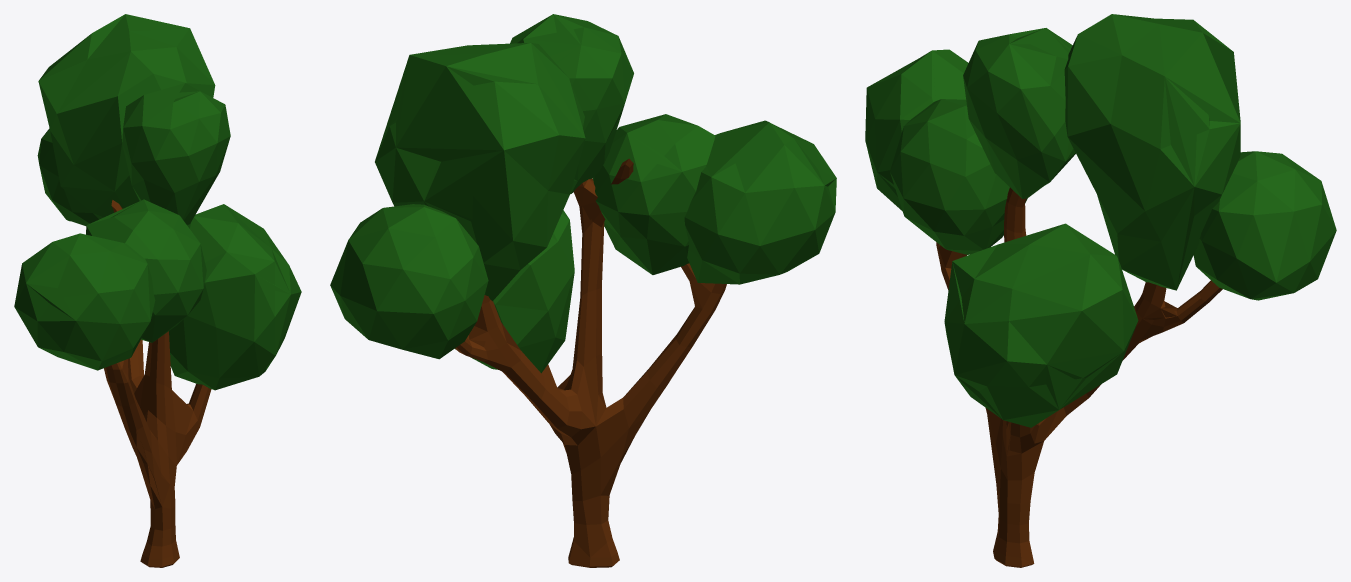
File: Tree6Model.fbx
The picture shows the model from 3 angles, left to right: view 1: azimuth 30°, elevation 25°; view 2: azimuth 150°, elevation 25°; view 3: azimuth 270°, elevation 25°; orthographic projection. The views are drawn at different scales.
Parts seen in each view (by area): view 1: Leaves (×3), Tree_3 (×3); view 2: Leaves (×3), Tree_3 (×3); view 3: Leaves (×3), Tree_3 (×3).
Boxes of the visible parts, x1,y1,x2,y2 form: Leaves (×3): (14, 14, 301, 390); Tree_3 (×3): (104, 200, 211, 567); Leaves (×3): (330, 14, 836, 373); Tree_3 (×3): (455, 158, 726, 567); Leaves (×3): (865, 14, 1336, 427); Tree_3 (×3): (936, 187, 1222, 567).
Bounding box in the file's own units: 752 × 1116 × 864.
